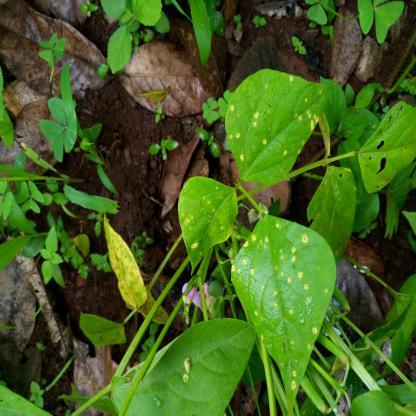Beans_Rust: (228, 213, 338, 397), (112, 322, 255, 416), (224, 68, 328, 178), (176, 174, 238, 264)
